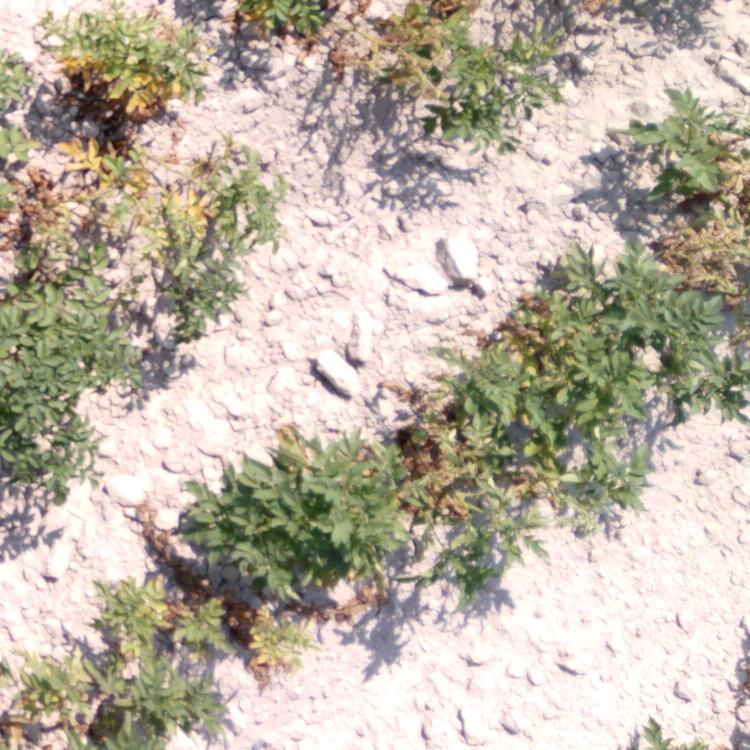healthy: (215, 450, 378, 565), (6, 273, 87, 503), (608, 281, 729, 419), (81, 675, 195, 747), (3, 53, 40, 122)
stressed: (390, 385, 532, 506), (338, 1, 491, 112), (105, 585, 282, 667), (633, 146, 743, 273), (62, 13, 173, 137), (6, 142, 124, 250), (156, 158, 248, 280), (514, 271, 589, 383)
